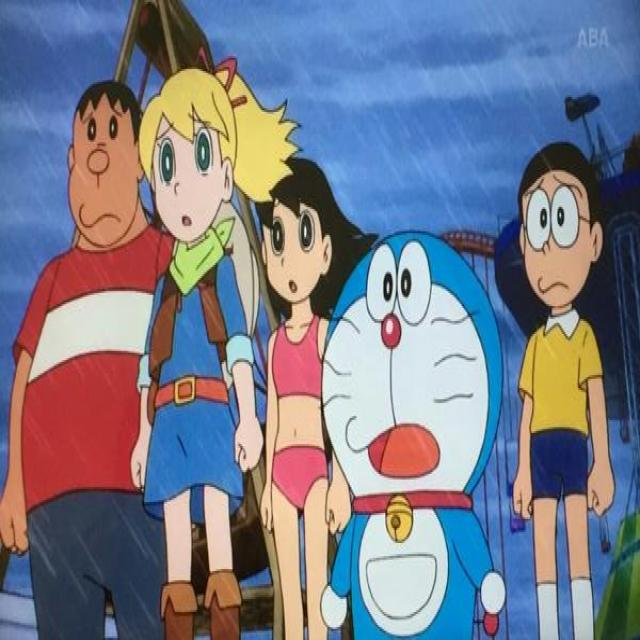doraemon: (319, 224, 504, 535)
jaian: (63, 76, 145, 242)
nobita: (514, 134, 605, 346)
